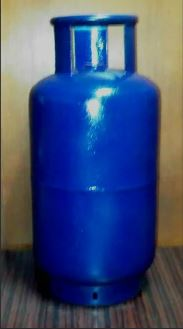blue_gas: (29, 14, 162, 308)
